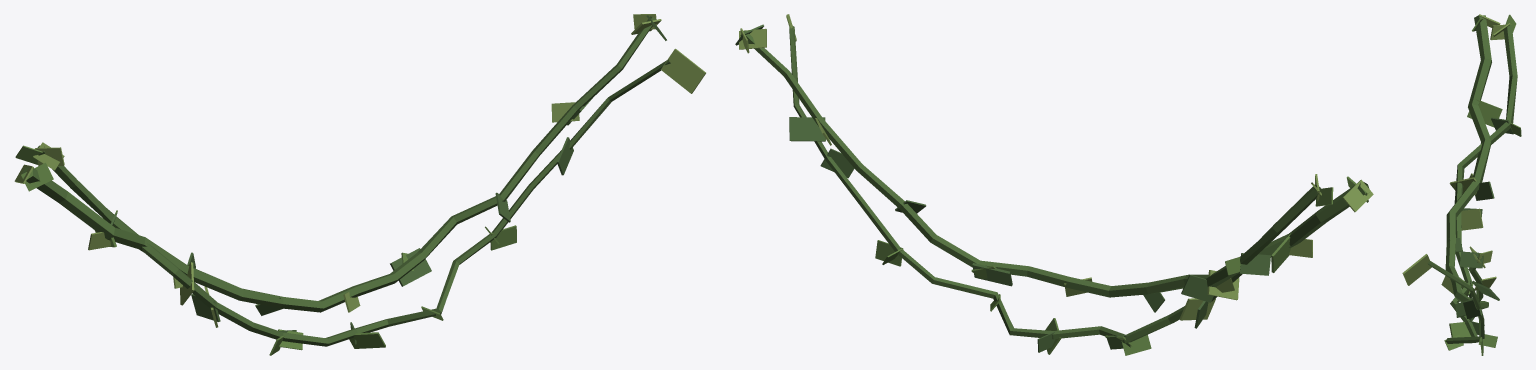
File: VN_Hang.glb
3 renders of one model, left to right at view 1: azimuth 30°, elevation 25°; view 2: azimuth 150°, elevation 25°; view 3: azimuth 270°, elevation 25°, orthographic. The views are drawn at different scales.
Parts seen in each view (by area): view 1: VN_Hang; view 2: VN_Hang; view 3: VN_Hang.
Boxes of the visible parts, <box> form: VN_Hang: <box>14,14,705,355</box>; VN_Hang: <box>735,14,1373,355</box>; VN_Hang: <box>1402,14,1521,355</box>.
Size of the model in its own units: 4.49 by 1.75 by 0.9189.
